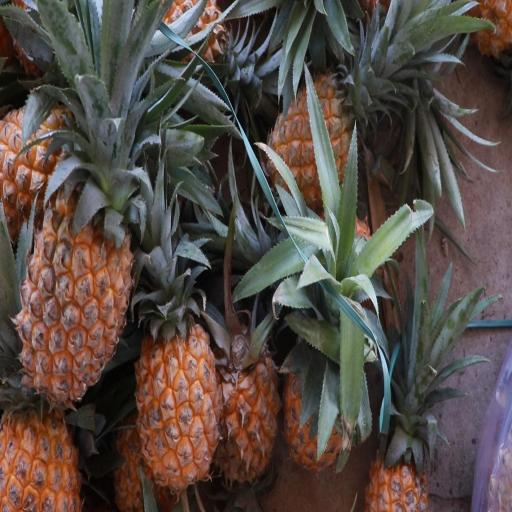Pineapple - v8 v1: (14, 166, 136, 409), (263, 69, 370, 230), (133, 312, 223, 494), (0, 366, 89, 512), (284, 307, 354, 478), (216, 312, 282, 487)
